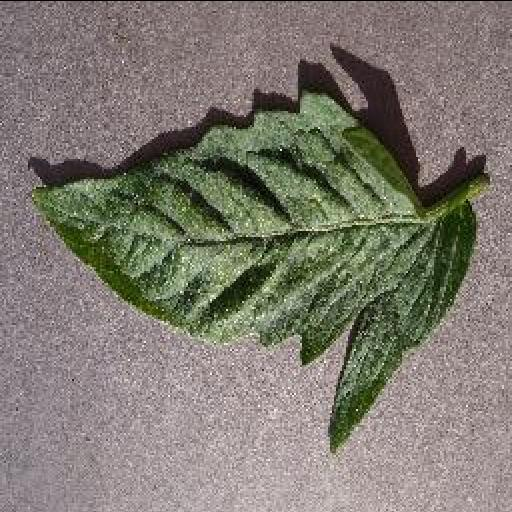disease_tomato: (24, 94, 476, 454)
